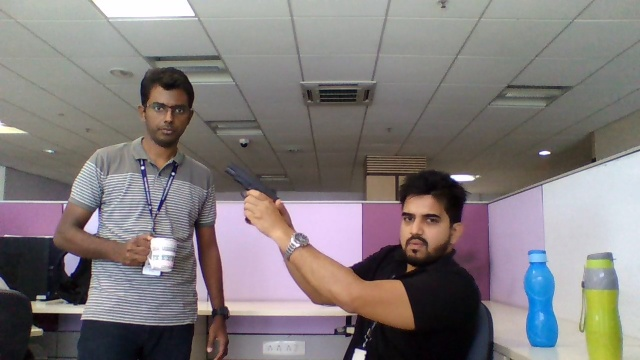gun: (222, 159, 281, 197)
